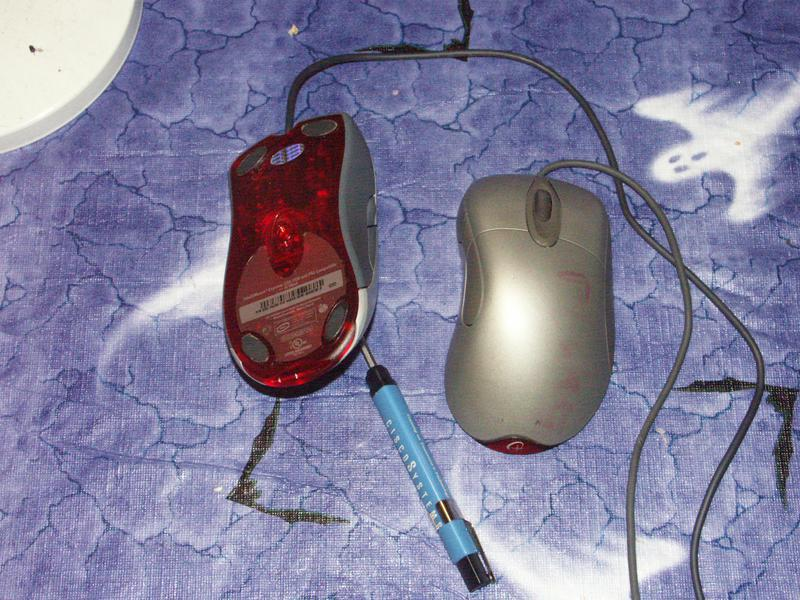mouse: (434, 168, 622, 461), (215, 107, 389, 404)
